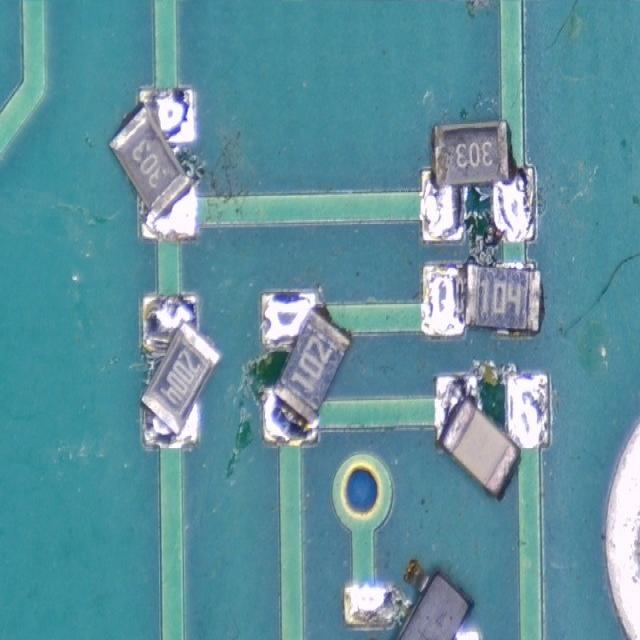Incorrect_installation: (434, 371, 550, 500), (260, 290, 354, 444), (420, 120, 535, 243), (107, 88, 197, 239), (140, 294, 222, 447), (343, 559, 479, 640), (422, 262, 542, 336)
